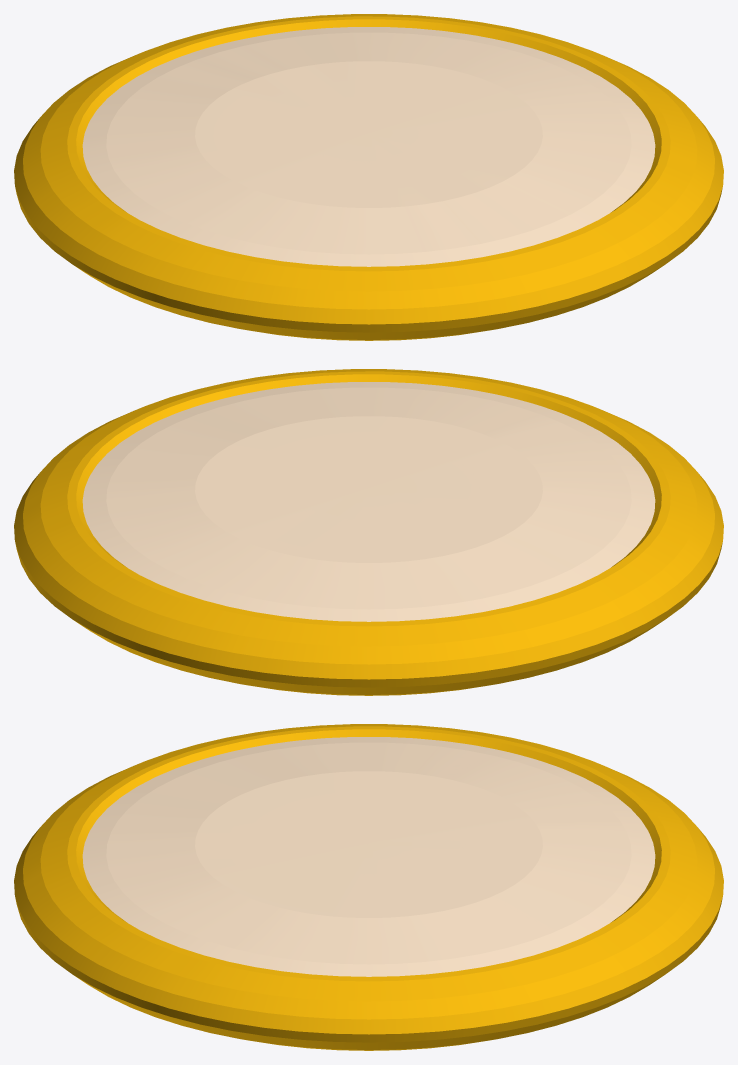
The picture shows the model from 3 angles, top to bottom: view 1: azimuth 30°, elevation 25°; view 2: azimuth 150°, elevation 25°; view 3: azimuth 270°, elevation 25°; orthographic projection.
Visible parts, largest first — view 1: cream_centre, gold_rim; view 2: cream_centre, gold_rim; view 3: cream_centre, gold_rim.
Boxes of the visible parts, x1,y1,x2,y2 form: cream_centre: (82, 27, 655, 266); gold_rim: (14, 14, 723, 340); cream_centre: (82, 382, 655, 621); gold_rim: (14, 369, 723, 695); cream_centre: (82, 737, 655, 976); gold_rim: (14, 724, 723, 1050).
Size of the model in its own units: 0.0799 by 0.00975 by 0.08.
